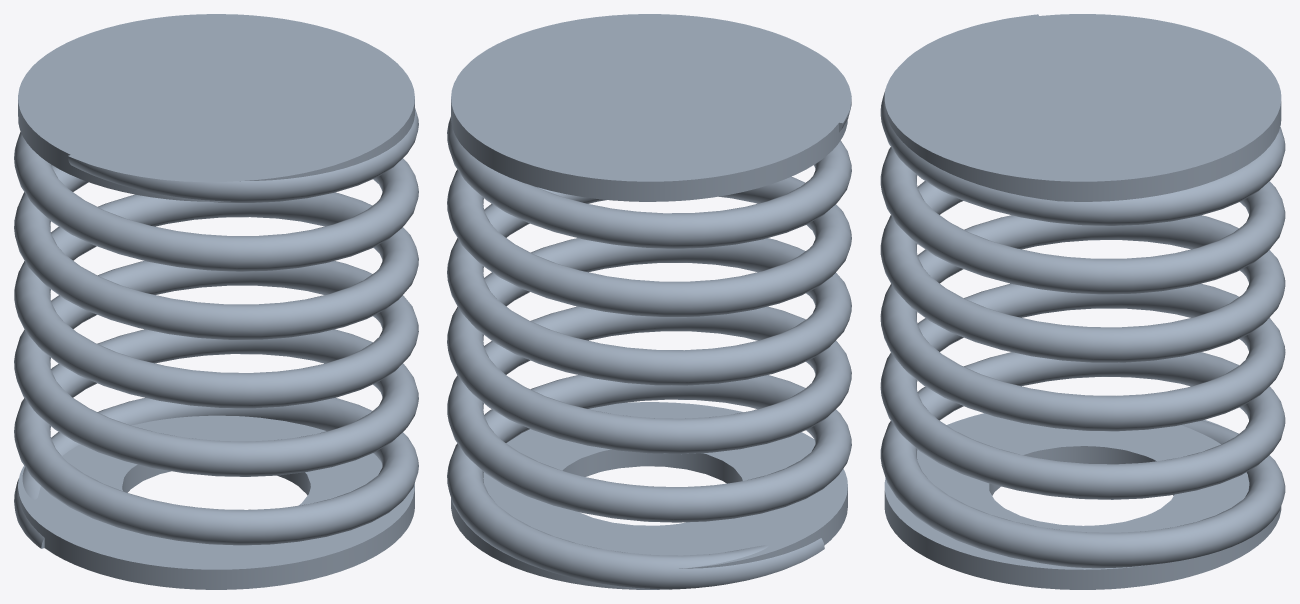
Rendered from rocker_spring.obj.
The picture shows the model from 3 angles, left to right: view 1: azimuth 30°, elevation 25°; view 2: azimuth 150°, elevation 25°; view 3: azimuth 270°, elevation 25°; orthographic projection.
Parts seen in each view (by area): view 1: 1; view 2: 1; view 3: 1.
Boxes of the visible parts, x1,y1,x2,y2 form: 1: (14,14,418,589); 1: (447,14,851,589); 1: (880,14,1285,589).
Size of the model in its own units: 27.24 by 30.3 by 27.24.
